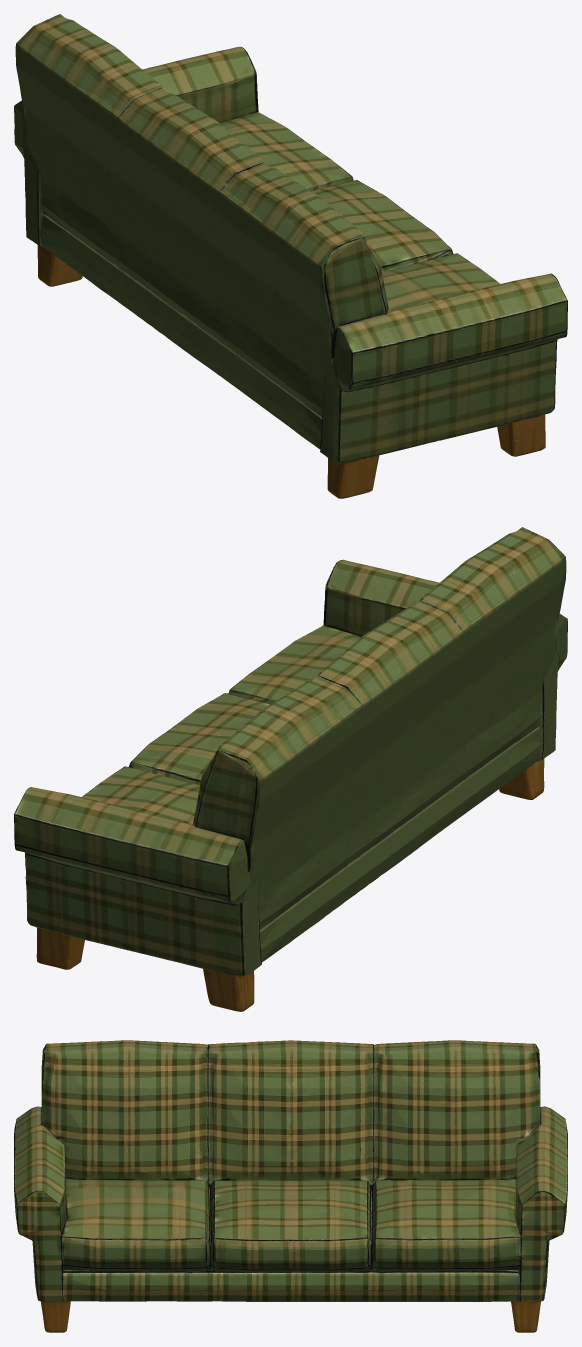
The model's file is plaid+sofa+3d+model (1).glb.
3 renders of one model, top to bottom at view 1: azimuth 30°, elevation 25°; view 2: azimuth 150°, elevation 25°; view 3: azimuth 270°, elevation 25°, orthographic. The views are drawn at different scales.
Visible parts, largest first — view 1: tripo_node_ac04fbc1-7155-40ce-9be5-26576d039114; view 2: tripo_node_ac04fbc1-7155-40ce-9be5-26576d039114; view 3: tripo_node_ac04fbc1-7155-40ce-9be5-26576d039114.
Part boxes in pixels (x1=…): tripo_node_ac04fbc1-7155-40ce-9be5-26576d039114: x1=14, y1=14, x2=567, y2=498; tripo_node_ac04fbc1-7155-40ce-9be5-26576d039114: x1=14, y1=527, x2=567, y2=1011; tripo_node_ac04fbc1-7155-40ce-9be5-26576d039114: x1=14, y1=1040, x2=567, y2=1332.
Size of the model in its own units: 0.416 by 0.4272 by 1.
Materials: 1 (1 with a texture image).
